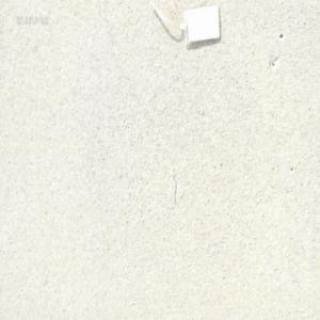LuggageTagtrack_idkeyframe: (144, 0, 222, 48)
